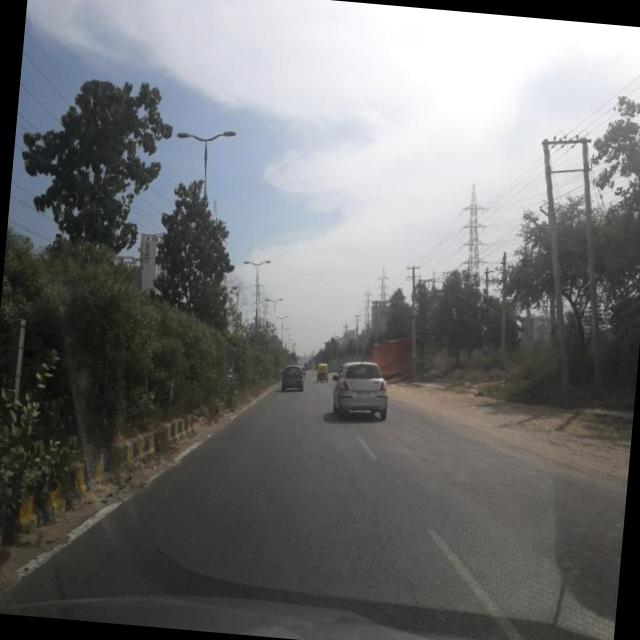crack: (87, 396, 624, 640)
